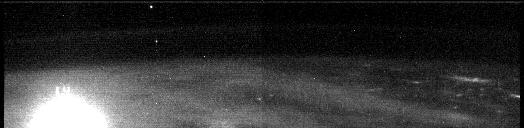positive: (51, 83, 74, 97)
